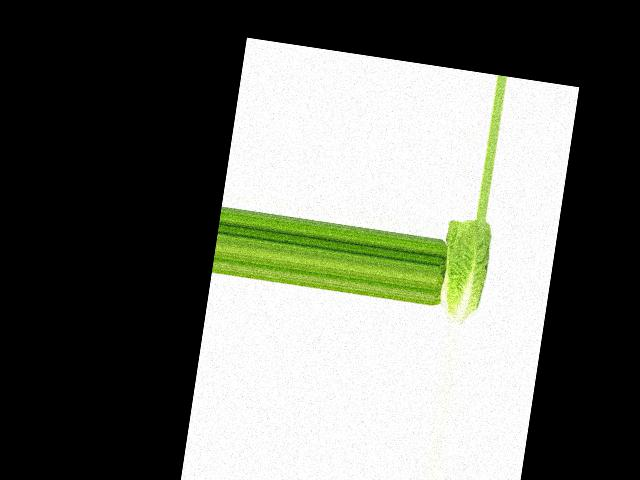lettuce: (436, 215, 501, 327)
